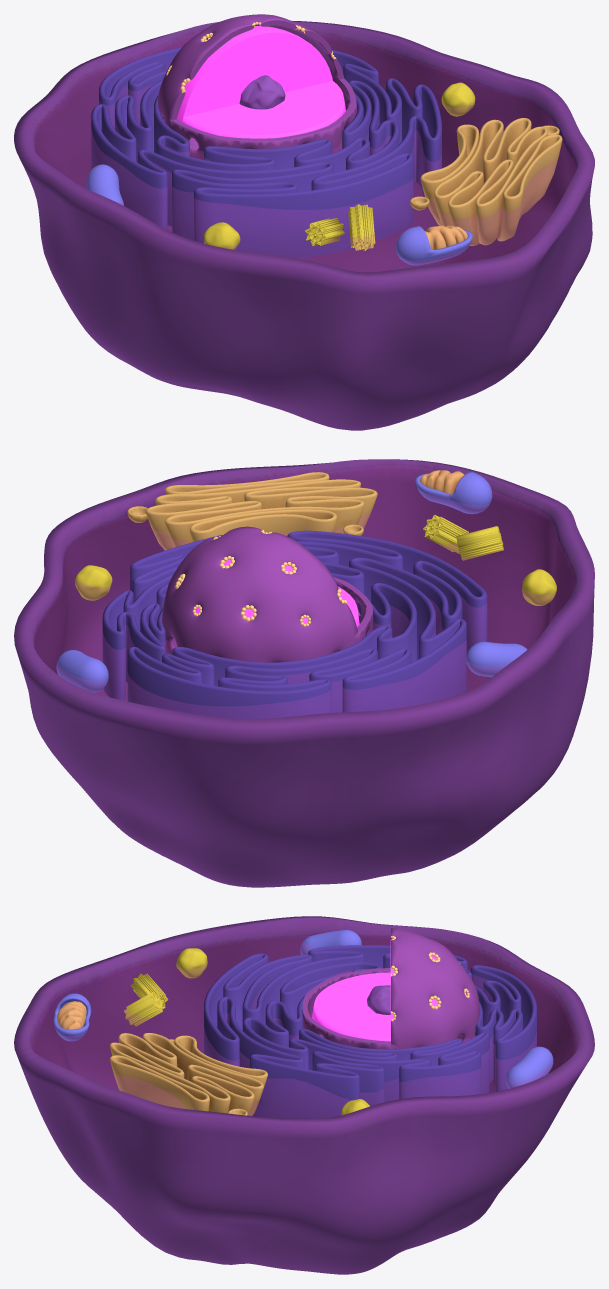
3 renders of one model, top to bottom at view 1: azimuth 30°, elevation 25°; view 2: azimuth 150°, elevation 25°; view 3: azimuth 270°, elevation 25°, orthographic. The views are drawn at different scales.
Parts seen in each view (by area): view 1: Sphere, BezierCurve, Sphere.001, Roundcube, BezierCurve.002, Icosphere, Roundcube.000, Sphere.002, Roundcube.001, Sphere.005; view 2: Sphere, BezierCurve, Sphere.001, Icosphere, BezierCurve.002, Sphere.002, Roundcube.000, Icosphere.002, Sphere.005; view 3: Sphere, BezierCurve, Sphere.001, Icosphere, BezierCurve.002, Roundcube, Sphere.002, Roundcube.000, Sphere.005, Roundcube.001.
Part boxes in pixels (left/top/right/bottom): Sphere: left=14, top=20, right=594, bottom=430; BezierCurve: left=91, top=47, right=441, bottom=258; Sphere.001: left=35, top=31, right=576, bottom=271; Roundcube: left=177, top=26, right=345, bottom=139; BezierCurve.002: left=410, top=118, right=562, bottom=245; Icosphere: left=158, top=14, right=357, bottom=159; Roundcube.000: left=204, top=82, right=475, bottom=250; Sphere.002: left=86, top=164, right=472, bottom=265; Roundcube.001: left=239, top=75, right=285, bottom=109; Sphere.005: left=424, top=225, right=467, bottom=249; Sphere: left=14, top=459, right=594, bottom=887; BezierCurve: left=102, top=530, right=487, bottom=718; Sphere.001: left=34, top=466, right=575, bottom=718; Icosphere: left=162, top=526, right=373, bottom=662; BezierCurve.002: left=127, top=472, right=377, bottom=550; Sphere.002: left=56, top=471, right=527, bottom=692; Roundcube.000: left=75, top=514, right=556, bottom=605; Icosphere.002: left=175, top=530, right=347, bottom=626; Sphere.005: left=420, top=470, right=464, bottom=494; Sphere: left=14, top=916, right=594, bottom=1274; BezierCurve: left=204, top=945, right=536, bottom=1118; Sphere.001: left=31, top=936, right=578, bottom=1117; Icosphere: left=302, top=928, right=479, bottom=1049; BezierCurve.002: left=110, top=1033, right=267, bottom=1115; Roundcube: left=312, top=940, right=466, bottom=1041; Sphere.002: left=53, top=930, right=553, bottom=1088; Roundcube.000: left=124, top=948, right=369, bottom=1115; Sphere.005: left=57, top=1001, right=86, bottom=1029; Roundcube.001: left=367, top=985, right=390, bottom=1014.
Bounding box in the file's own units: 5.96 × 3.98 × 7.05.
Materials: 11 (8 with a texture image).
